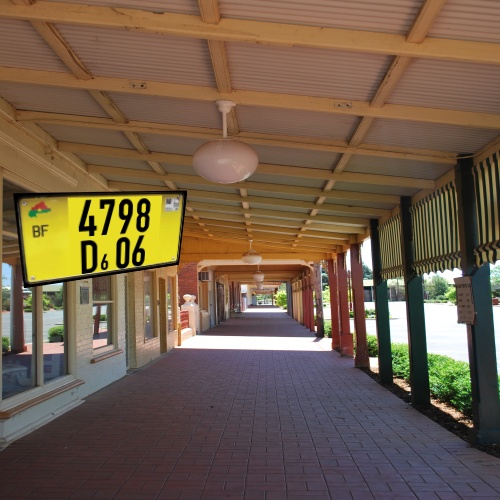plate: (9, 177, 197, 293)
